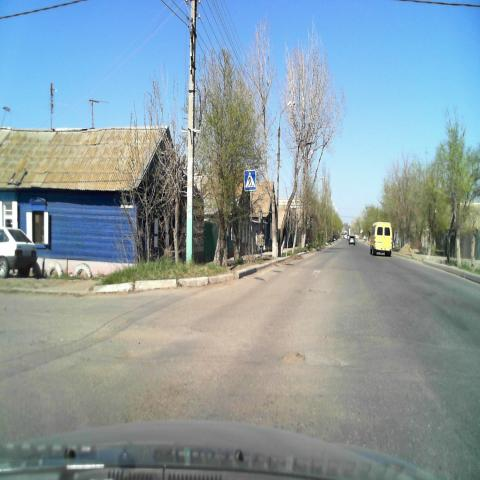5_19_1: (244, 170, 256, 192)
